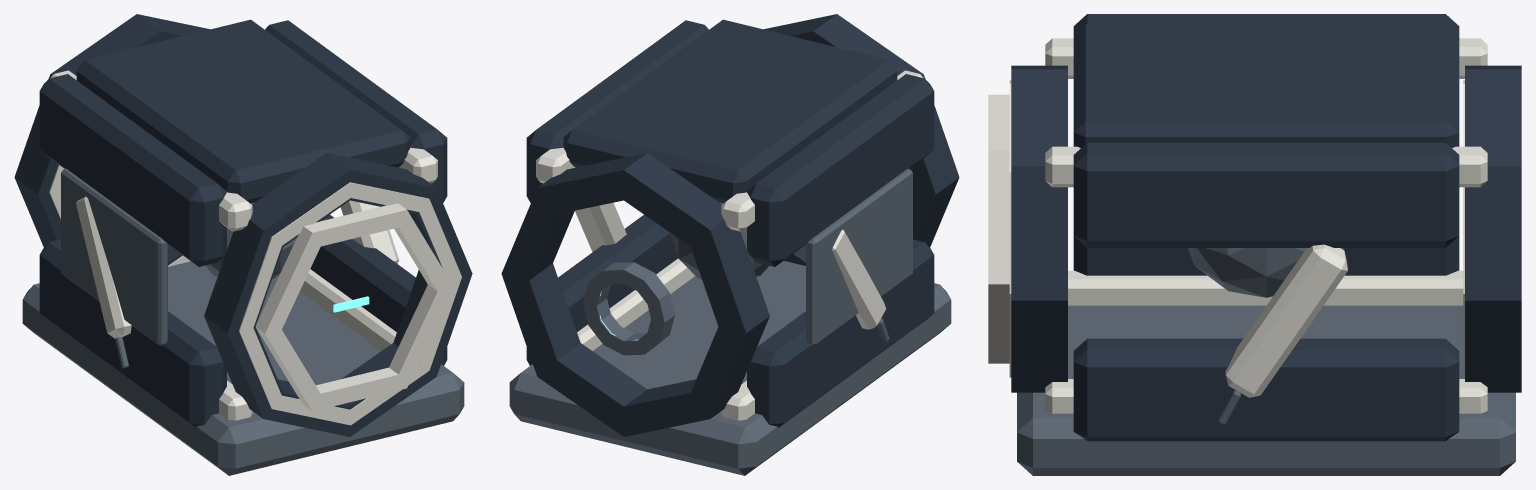
Rendered from shell_execution_bay.glb.
3 views of the same model, side by side, from view 1: azimuth 30°, elevation 25°; view 2: azimuth 150°, elevation 25°; view 3: azimuth 270°, elevation 25° (orthographic). The views are drawn at different scales.
Parts seen in each view (by area): view 1: shell_execution_bay__roof, shell_execution_bay__base, shell_execution_bay__end_frame__02, shell_execution_bay__side_armor__02, shell_execution_bay__command_port, shell_execution_bay__side_armor, shell_execution_bay__maintenance_door, shell_execution_bay__ivory_rim__02, shell_execution_bay__end_frame, shell_execution_bay__side_armor__04, shell_execution_bay__side_armor__03, shell_execution_bay__arm_left (+7 smaller); view 2: shell_execution_bay__end_frame, shell_execution_bay__roof, shell_execution_bay__base, shell_execution_bay__side_armor__02, shell_execution_bay__side_armor, shell_execution_bay__maintenance_door, shell_execution_bay__end_frame__02, shell_execution_bay__side_armor__04, shell_execution_bay__primary_DCI-M_frame, shell_execution_bay__side_armor__03, shell_execution_bay__arm_left, shell_execution_bay__axial_rail__03 (+5 smaller); view 3: shell_execution_bay__roof, shell_execution_bay__side_armor__04, shell_execution_bay__side_armor__03, shell_execution_bay__base, shell_execution_bay__end_frame, shell_execution_bay__end_frame__02, shell_execution_bay__axial_rail, shell_execution_bay__arm_right, shell_execution_bay__side_armor, shell_execution_bay__command_port, shell_execution_bay__side_armor__02, shell_execution_bay__execution_core (+4 smaller).
Boxes of the visible parts, x1,y1,x2,y2 form: shell_execution_bay__roof: (76, 19, 410, 203); shell_execution_bay__base: (22, 261, 464, 475); shell_execution_bay__end_frame__02: (204, 153, 472, 436); shell_execution_bay__side_armor__02: (39, 74, 226, 266); shell_execution_bay__command_port: (255, 203, 454, 411); shell_execution_bay__side_armor: (39, 239, 226, 427); shell_execution_bay__maintenance_door: (61, 168, 167, 345); shell_execution_bay__ivory_rim__02: (239, 182, 461, 425); shell_execution_bay__end_frame: (14, 14, 209, 265); shell_execution_bay__side_armor__04: (265, 20, 447, 202); shell_execution_bay__side_armor__03: (310, 214, 447, 365); shell_execution_bay__arm_left: (76, 196, 131, 338); shell_execution_bay__end_frame: (501, 153, 769, 436); shell_execution_bay__roof: (563, 19, 897, 203); shell_execution_bay__base: (509, 261, 951, 475); shell_execution_bay__side_armor__02: (747, 74, 934, 266); shell_execution_bay__side_armor: (747, 239, 934, 427); shell_execution_bay__maintenance_door: (806, 168, 912, 345); shell_execution_bay__end_frame__02: (764, 14, 959, 265); shell_execution_bay__side_armor__04: (526, 20, 708, 202); shell_execution_bay__primary_DCI-M_frame: (583, 262, 674, 355); shell_execution_bay__side_armor__03: (526, 214, 678, 365); shell_execution_bay__arm_left: (832, 229, 886, 329); shell_execution_bay__axial_rail__03: (577, 258, 694, 350); shell_execution_bay__roof: (1073, 24, 1459, 147); shell_execution_bay__side_armor__04: (1073, 142, 1459, 247); shell_execution_bay__side_armor__03: (1073, 338, 1459, 441); shell_execution_bay__base: (1017, 305, 1515, 475); shell_execution_bay__end_frame: (1465, 65, 1521, 392); shell_execution_bay__end_frame__02: (1011, 65, 1067, 392); shell_execution_bay__axial_rail: (1068, 270, 1463, 305); shell_execution_bay__arm_right: (1225, 244, 1347, 397); shell_execution_bay__side_armor: (1073, 236, 1459, 275); shell_execution_bay__command_port: (988, 94, 1009, 363); shell_execution_bay__side_armor__02: (1073, 14, 1459, 34); shell_execution_bay__execution_core: (1188, 248, 1343, 297).
Size of the model in its own units: 2.5 by 2.4 by 3.4.
